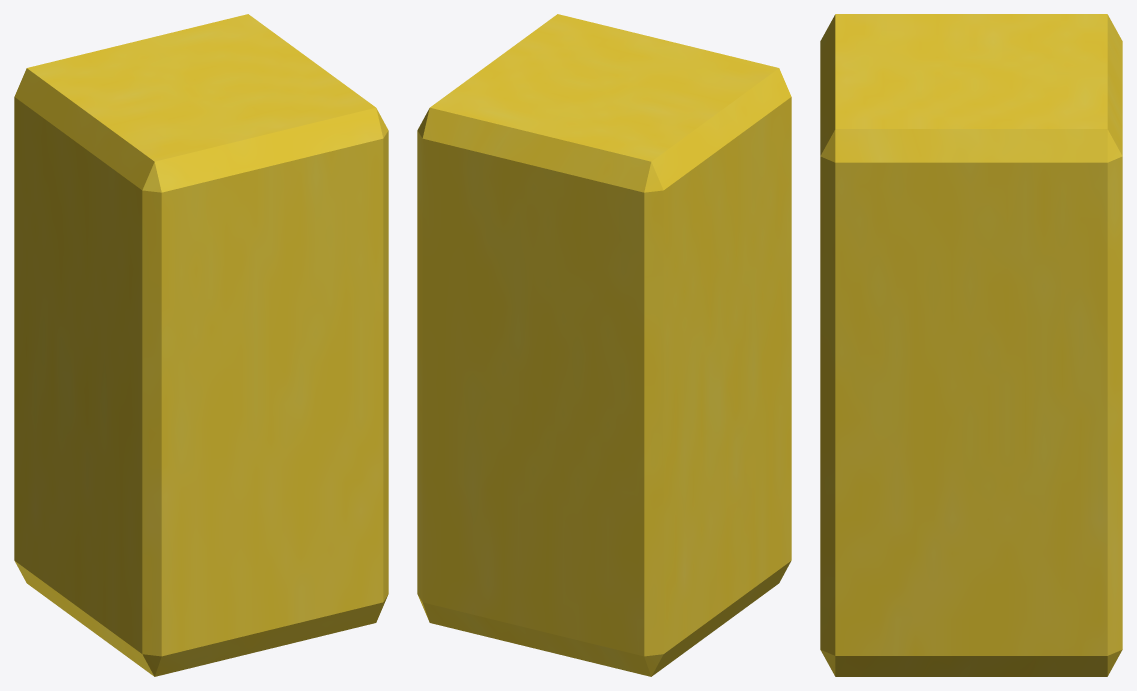
The model's file is LONG_CUBE.fbx.
3 renders of one model, left to right at view 1: azimuth 30°, elevation 25°; view 2: azimuth 150°, elevation 25°; view 3: azimuth 270°, elevation 25°, orthographic. The views are drawn at different scales.
Visible parts, largest first — view 1: LONG_CUBE; view 2: LONG_CUBE; view 3: LONG_CUBE.
Part boxes in pixels (<box>): LONG_CUBE: <box>14,14,388,676</box>; LONG_CUBE: <box>417,14,791,676</box>; LONG_CUBE: <box>820,14,1122,676</box>.
Bounding box in the file's own units: 100 × 200 × 100.
